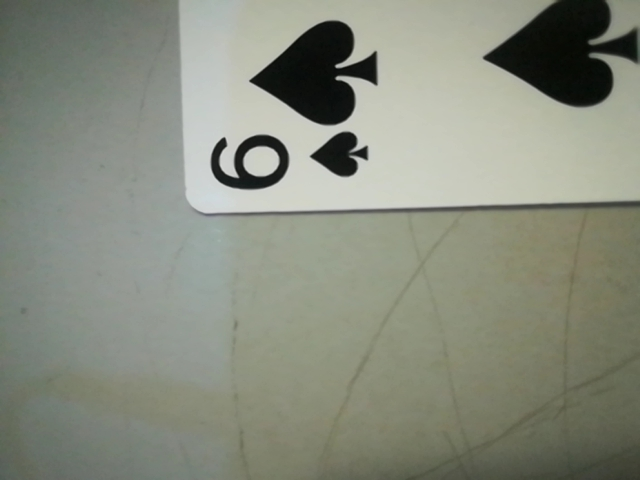ht 6: (194, 110, 383, 207)
